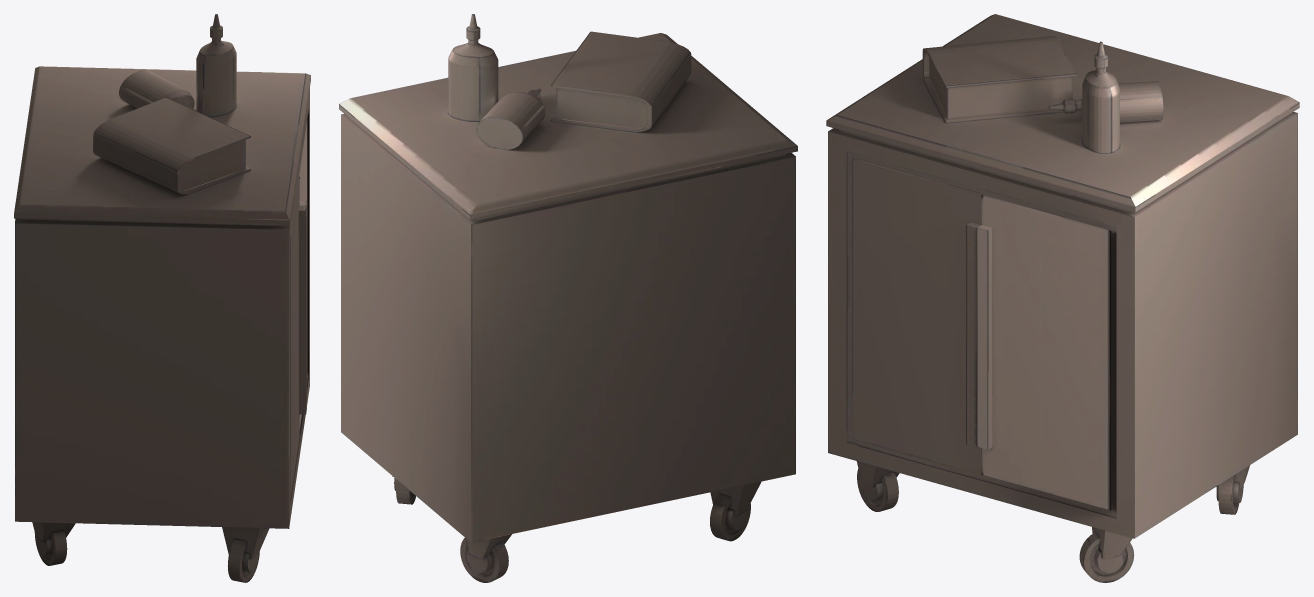
Rendered from cabinet.glb.
3 views of the same model, side by side, from view 1: azimuth 30°, elevation 25°; view 2: azimuth 150°, elevation 25°; view 3: azimuth 270°, elevation 25° (orthographic). The views are drawn at different scales.
Parts seen in each view (by area): view 1: rolling cabinet; view 2: rolling cabinet; view 3: rolling cabinet.
Boxes of the visible parts, x1,y1,x2,y2 form: rolling cabinet: (14, 14, 310, 582); rolling cabinet: (339, 14, 797, 582); rolling cabinet: (826, 14, 1299, 582).
Bounding box in the file's own units: 8.4 × 10.38 × 8.79.
Materials: 1 (1 with a texture image).
